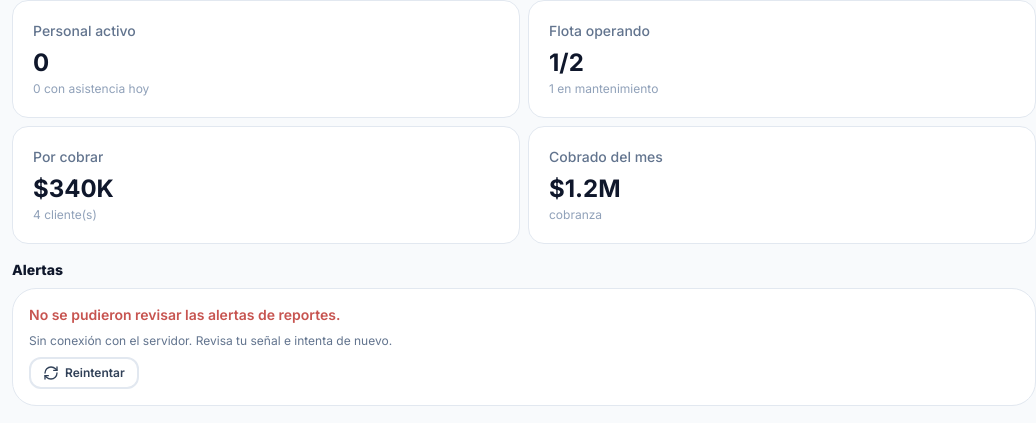
Test case: PanelEmpresa › alertas: reintenta solo las fuentes que fallaron
The width and height of the screenshot is (1036, 423).
Expected: the text "No se pudieron revisar las alertas de reportes." is shown, [29, 306, 340, 323]
What coordinates should you click on to do the following:
click the button "Reintentar"
I would click on:
 (84, 373)
Its box is [29, 357, 139, 389].
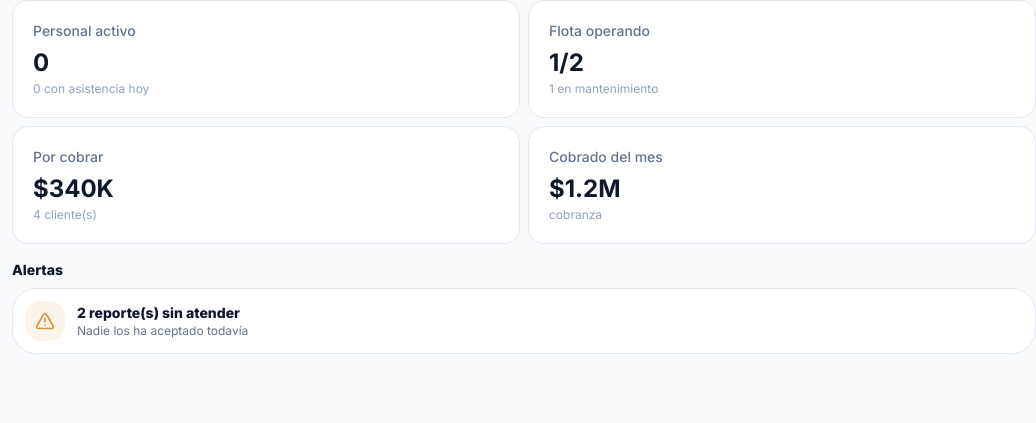
Now the text "2 reporte(s) sin atender" is shown, box [77, 304, 240, 321]
